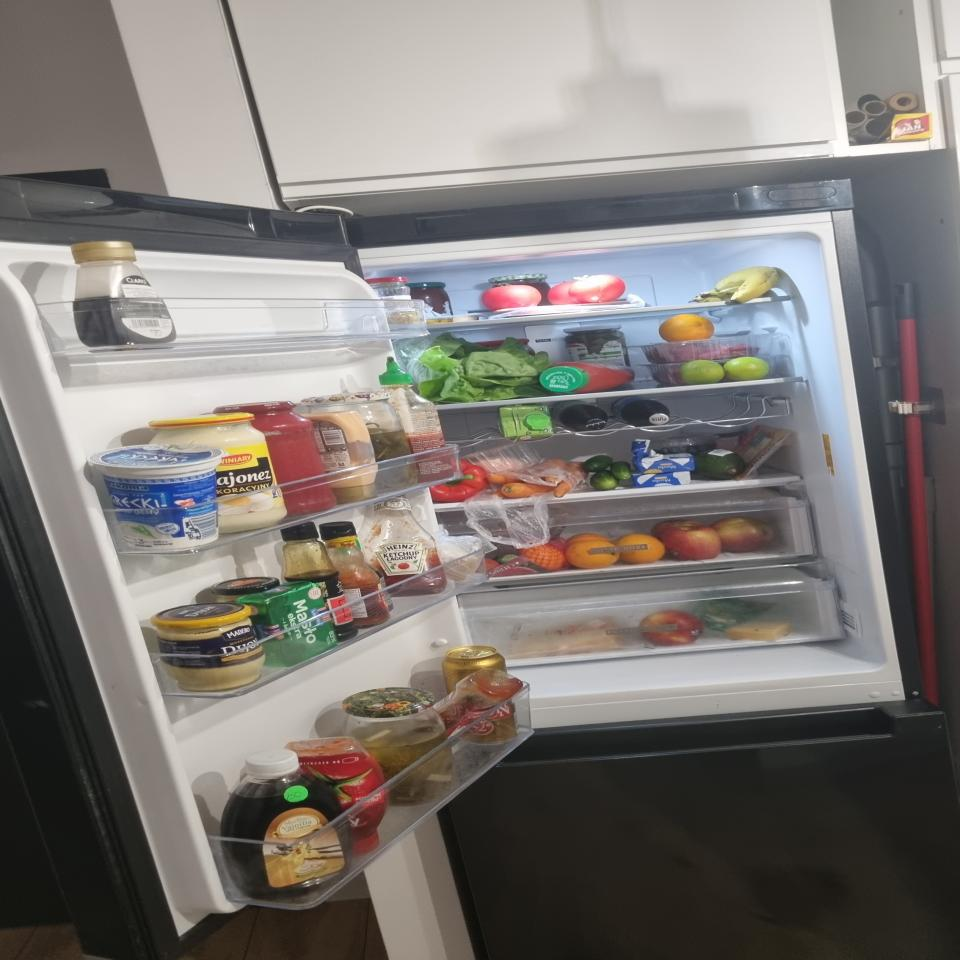Aguacate: (699, 449, 743, 479)
Carne pollo: (468, 456, 526, 473)
Lechuga/Endivia: (416, 333, 544, 401)
Mantequilla: (238, 583, 342, 669), (631, 439, 695, 488)
Manzana: (716, 519, 777, 550), (668, 527, 723, 561), (642, 614, 696, 645), (652, 520, 701, 541)
Pepino: (583, 456, 631, 489)
Plátano: (686, 267, 783, 302)
Queso: (511, 620, 618, 657), (733, 425, 791, 483), (726, 622, 792, 642)
Tomate: (569, 274, 624, 305), (483, 285, 540, 311), (548, 280, 583, 306)
Yogur: (88, 444, 230, 551)
Zanahoria: (488, 459, 584, 497)
